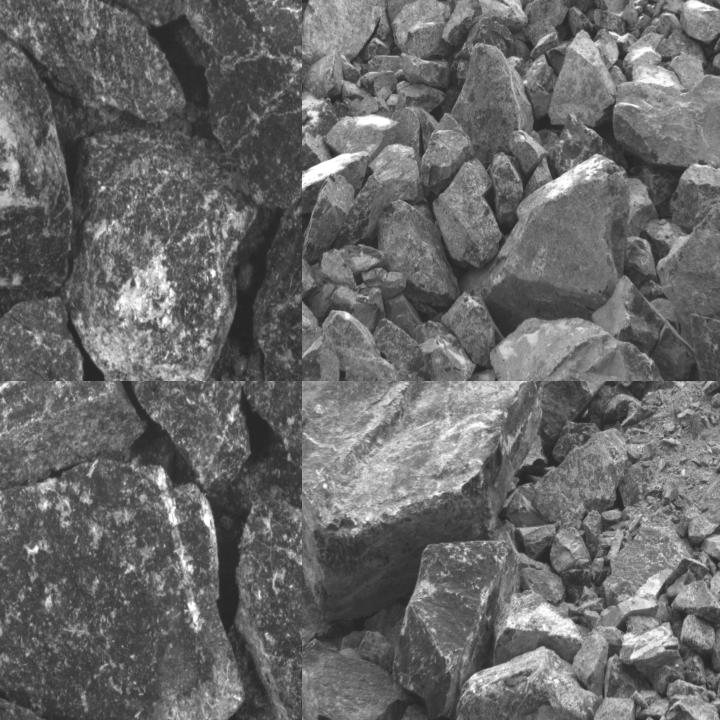stone: (0, 460, 244, 719), (302, 381, 548, 616), (58, 122, 262, 380), (181, 0, 301, 205), (394, 539, 522, 719), (0, 0, 186, 119), (479, 170, 631, 314), (0, 42, 68, 289), (0, 381, 148, 493), (228, 498, 301, 719), (112, 381, 249, 493), (429, 644, 602, 719), (486, 312, 669, 380), (661, 196, 719, 380), (612, 76, 719, 175), (452, 43, 536, 164), (533, 426, 626, 527), (302, 636, 409, 719), (603, 522, 706, 607), (379, 201, 459, 310), (340, 144, 422, 245), (432, 158, 504, 269), (0, 292, 87, 380), (504, 381, 606, 450), (550, 32, 616, 129), (322, 310, 401, 380), (302, 0, 386, 60), (302, 513, 334, 662), (302, 173, 354, 264), (442, 0, 530, 49), (422, 114, 473, 197), (443, 292, 499, 367), (619, 623, 684, 685), (556, 115, 618, 175), (391, 0, 452, 59), (326, 116, 398, 163), (486, 153, 523, 231), (376, 320, 420, 372), (573, 633, 608, 697), (594, 596, 658, 631), (679, 0, 719, 54), (605, 653, 650, 700), (671, 580, 719, 624), (552, 420, 601, 462), (302, 51, 345, 97), (302, 328, 340, 380), (692, 307, 719, 380), (695, 467, 719, 536), (447, 0, 516, 22), (510, 130, 542, 172), (385, 0, 436, 23), (589, 697, 637, 719), (302, 251, 317, 297), (713, 24, 719, 89)
